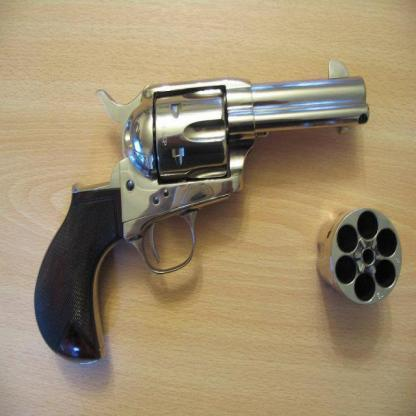weapon: (34, 59, 371, 365)
